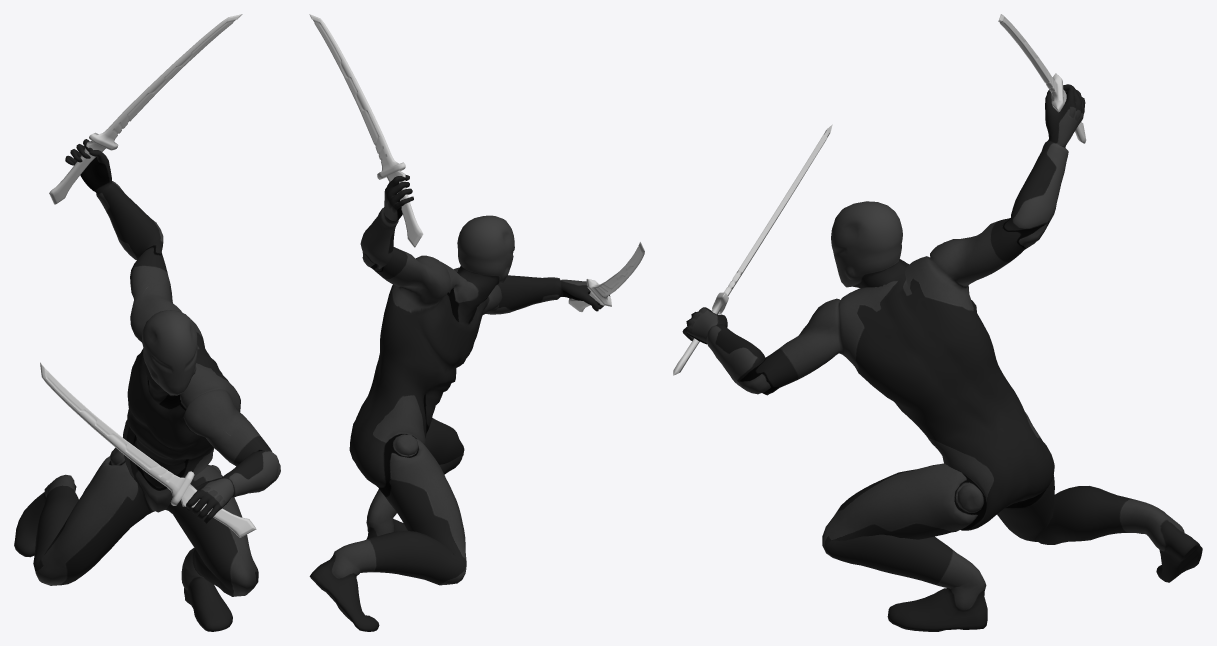
3 renders of one model, left to right at view 1: azimuth 30°, elevation 25°; view 2: azimuth 150°, elevation 25°; view 3: azimuth 270°, elevation 25°, orthographic. The views are drawn at different scales.
Visible parts, largest first — view 1: Cyborg_Ninja_Killer, Sword_l, Sword_l001; view 2: Cyborg_Ninja_Killer, Sword_l001, Sword_l; view 3: Cyborg_Ninja_Killer, Sword_l, Sword_l001.
Boxes of the visible parts, bbox=[...] form: Cyborg_Ninja_Killer: bbox=[14, 139, 280, 631]; Sword_l: bbox=[40, 362, 256, 537]; Sword_l001: bbox=[49, 14, 242, 204]; Cyborg_Ninja_Killer: bbox=[309, 175, 610, 631]; Sword_l001: bbox=[309, 14, 423, 247]; Sword_l: bbox=[568, 242, 644, 312]; Cyborg_Ninja_Killer: bbox=[682, 84, 1202, 631]; Sword_l: bbox=[673, 124, 832, 375]; Sword_l001: bbox=[998, 14, 1086, 143].
Size of the model in its own units: 104 by 201 by 152.
